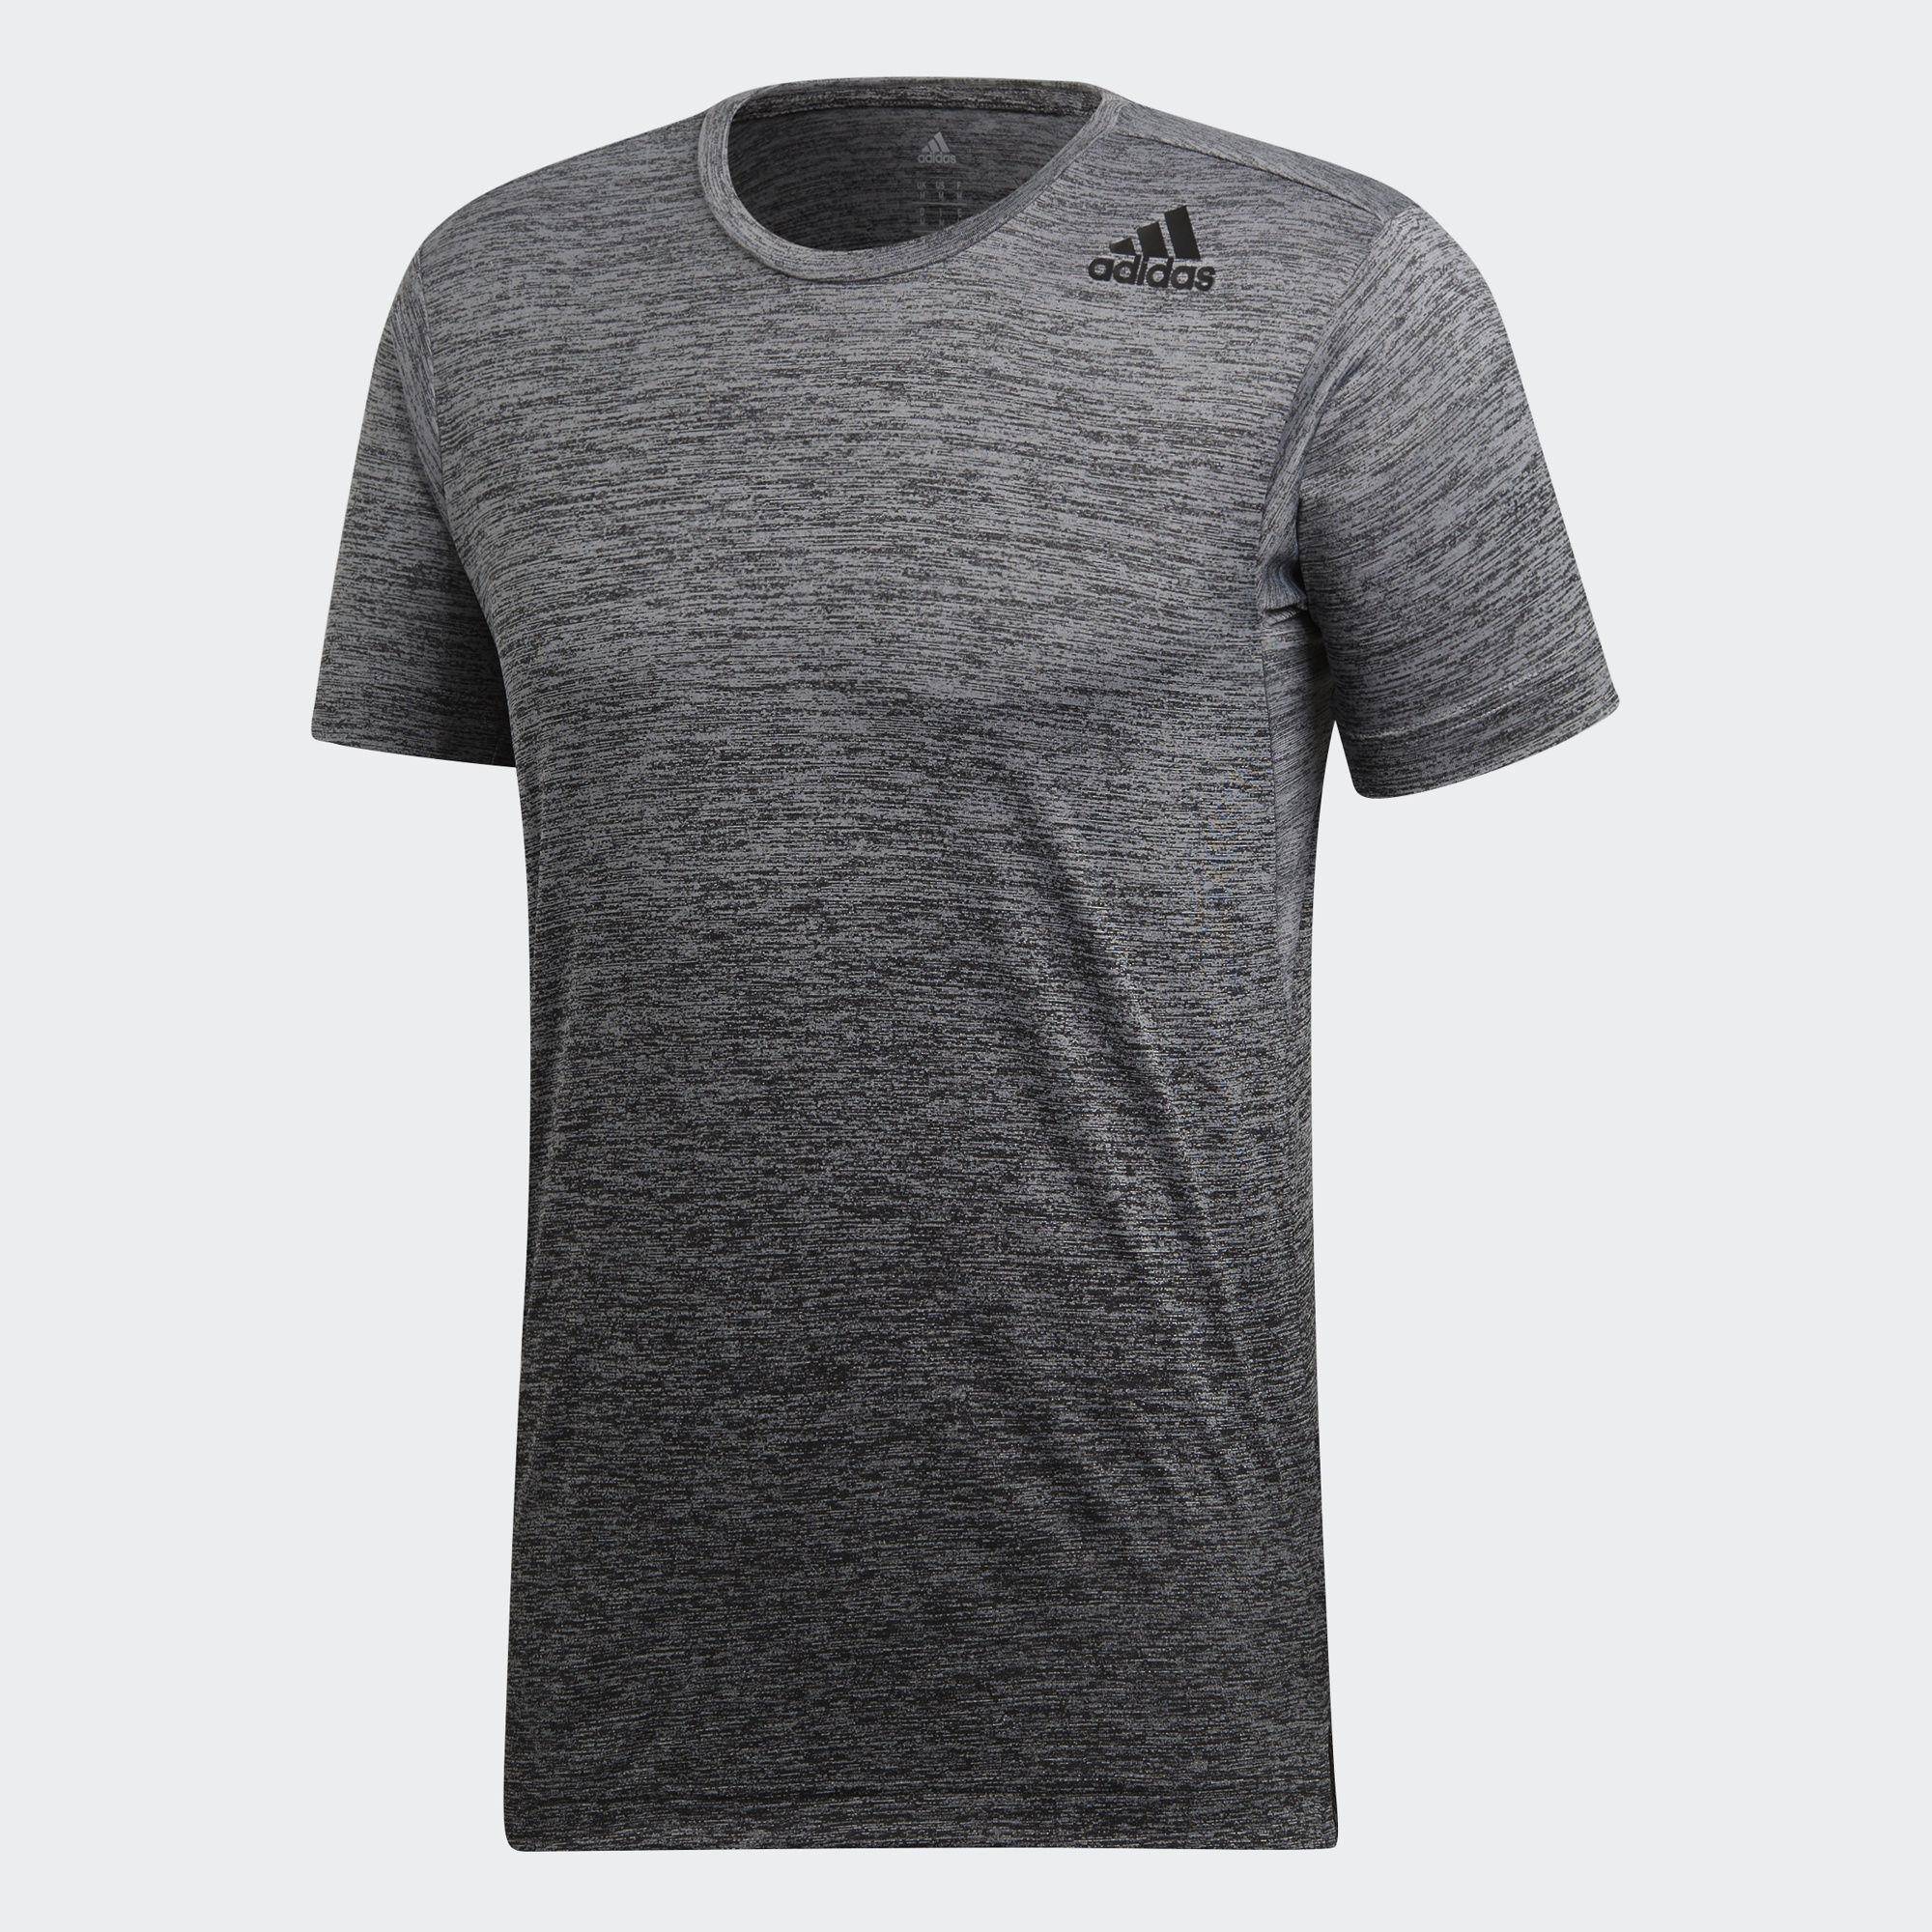teeshirt: (271, 55, 1658, 1897)
